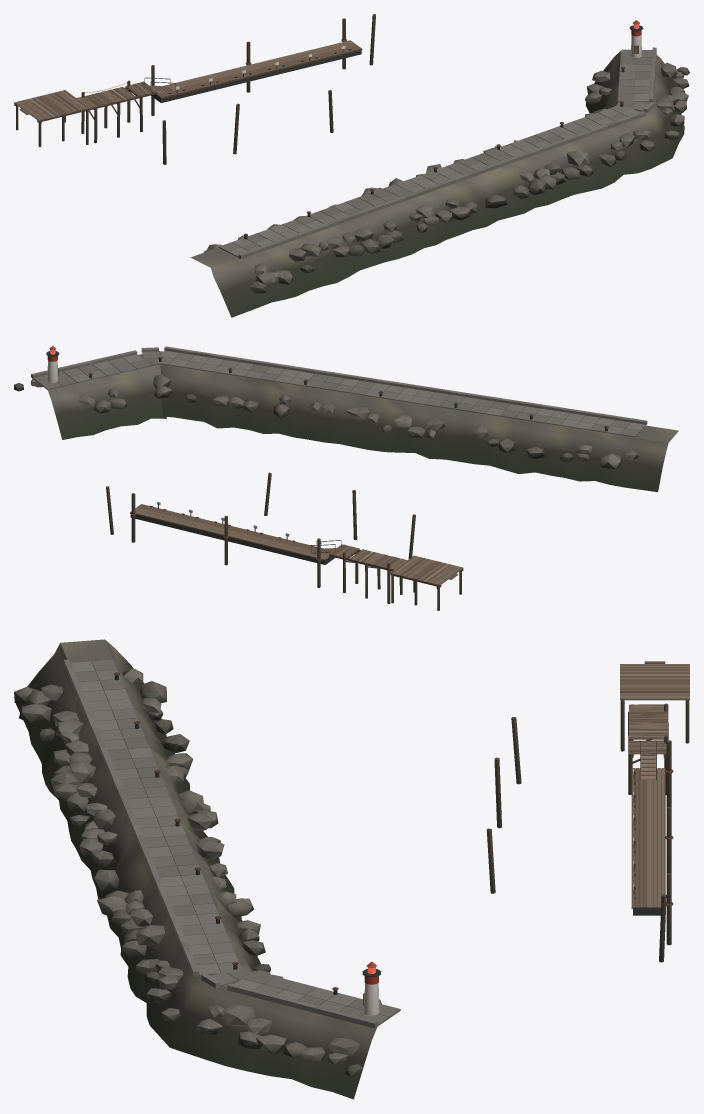
File: pier-breakwater.glb
3 renders of one model, top to bottom at view 1: azimuth 30°, elevation 25°; view 2: azimuth 150°, elevation 25°; view 3: azimuth 270°, elevation 25°, orthographic. The views are drawn at different scales.
Parts seen in each view (by area): view 1: breakwater, pier; view 2: breakwater, pier; view 3: breakwater, pier.
Part boxes in pixels (box(x1,y1,x2,y2)): breakwater: box(190, 20, 689, 317); pier: box(14, 14, 375, 164); breakwater: box(14, 346, 678, 491); pier: box(106, 472, 463, 610); breakwater: box(14, 639, 400, 1099); pier: box(486, 661, 689, 962).
Size of the model in its own units: 74.85 by 9.6 by 52.19.
